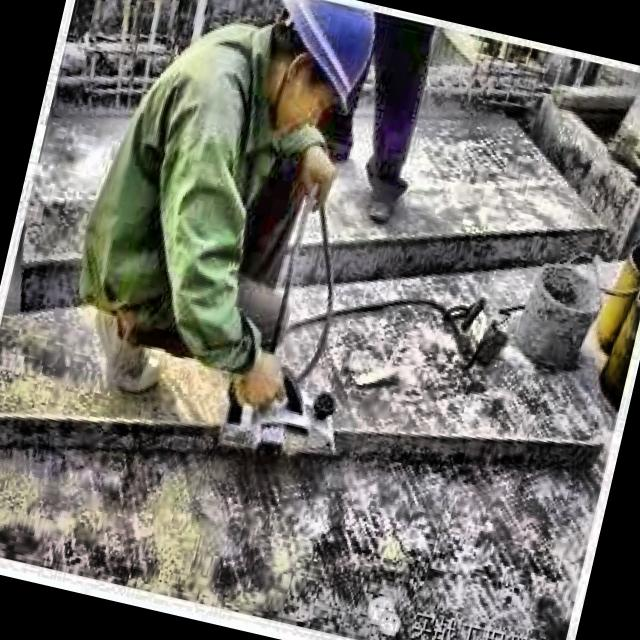helmet: (238, 0, 397, 154)
